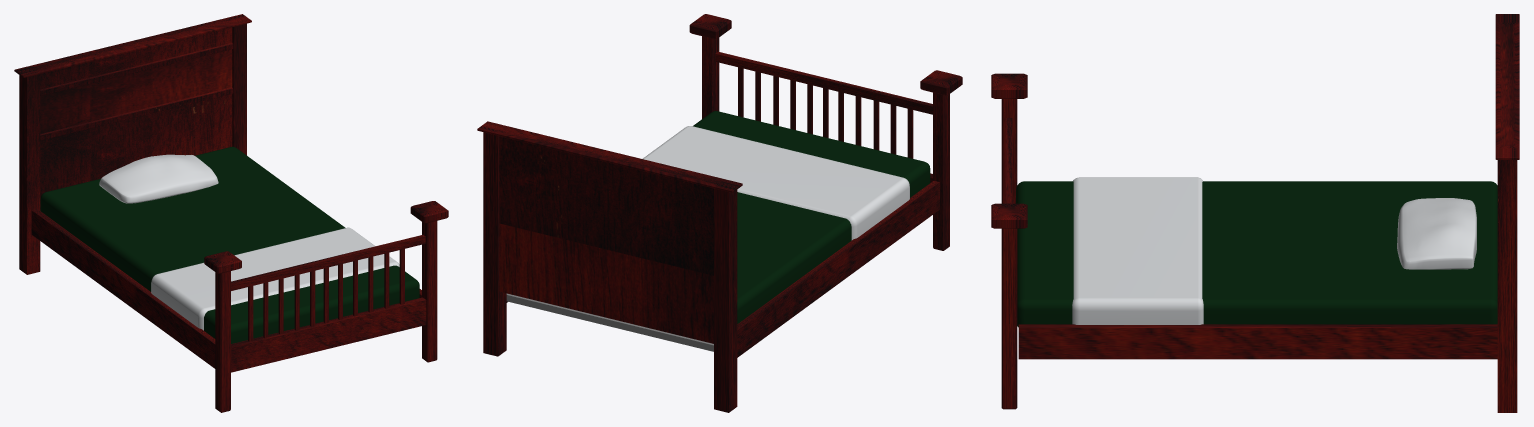
Rendered from bed.obj.
3 renders of one model, left to right at view 1: azimuth 30°, elevation 25°; view 2: azimuth 150°, elevation 25°; view 3: azimuth 270°, elevation 25°, orthographic. The views are drawn at different scales.
Visible parts, largest first — view 1: pCube25, pCube1 group1, pCube26, group1 pCube8, group1 pCube4, group1 pCube2, pCube27, group1 pCube10, group1 pCube9, group1 pCube11, group1 pCube3; view 2: pCube1 group1, pCube25, pCube26, group1 pCube4, group1 pCube2, group1 pCube3, group1 pCube10, group1 pCube11, group1 pCube9, pCube24; view 3: pCube25, pCube26, group1 pCube5, pCube27, group1 pCube3, group1 pCube9, pCube1 group1, group1 pCube10, group1 pCube11.
Part boxes in pixels (left/top/right/bottom): pCube25: left=40, top=146, right=419, bottom=343; pCube1 group1: left=14, top=14, right=251, bottom=210; pCube26: left=151, top=227, right=399, bottom=330; group1 pCube8: left=231, top=297, right=426, bottom=372; group1 pCube4: left=31, top=209, right=215, bottom=368; group1 pCube2: left=19, top=74, right=40, bottom=274; pCube27: left=99, top=154, right=218, bottom=203; group1 pCube10: left=204, top=251, right=241, bottom=412; group1 pCube9: left=410, top=201, right=448, bottom=362; group1 pCube11: left=231, top=235, right=425, bottom=290; group1 pCube3: left=232, top=23, right=246, bottom=155; pCube1 group1: left=477, top=121, right=742, bottom=343; pCube25: left=693, top=111, right=930, bottom=323; pCube26: left=642, top=126, right=909, bottom=240; group1 pCube4: left=737, top=181, right=939, bottom=357; group1 pCube2: left=714, top=188, right=737, bottom=412; group1 pCube3: left=483, top=132, right=506, bottom=356; group1 pCube10: left=920, top=70, right=962, bottom=250; group1 pCube11: left=715, top=51, right=932, bottom=114; group1 pCube9: left=689, top=14, right=731, bottom=118; pCube24: left=506, top=293, right=713, bottom=351; pCube25: left=1016, top=181, right=1497, bottom=327; pCube26: left=1072, top=177, right=1203, bottom=324; group1 pCube5: left=1018, top=324, right=1497, bottom=359; pCube27: left=1397, top=198, right=1476, bottom=269; group1 pCube3: left=1497, top=160, right=1517, bottom=412; group1 pCube9: left=991, top=203, right=1027, bottom=409; pCube1 group1: left=1495, top=14, right=1519, bottom=159; group1 pCube10: left=991, top=73, right=1027, bottom=203; group1 pCube11: left=1005, top=118, right=1012, bottom=203.
Size of the model in its own units: 23.95 by 19.81 by 36.74.
Materials: 4 (1 with a texture image).
